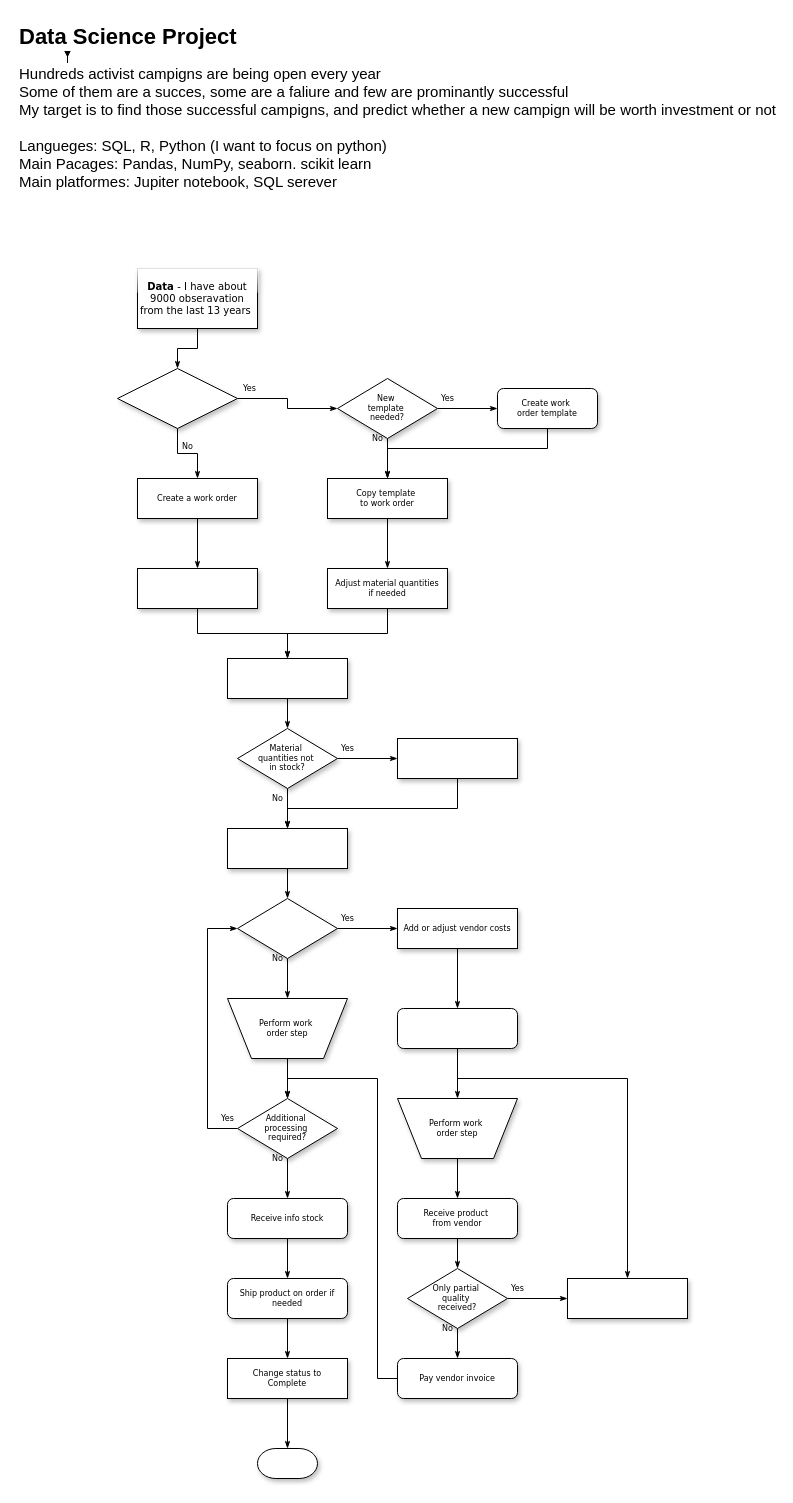
This 793x1503 diagram has some shape labels left out. The centre of each missing label's shape, as x and y in pixels:
Add materials to work order processes: (x=198, y=590)
Change status to In Process: (x=288, y=850)
Create work order backorder: (x=628, y=1300)
End: (x=288, y=1465)
Flat File - I've created: (x=178, y=400)
Monitor work orders: (x=288, y=680)
Procedure or transfer materials: (x=458, y=760)
Ship materials to vendor: (x=458, y=1030)
Step performed by outside vendor?: (x=288, y=930)
